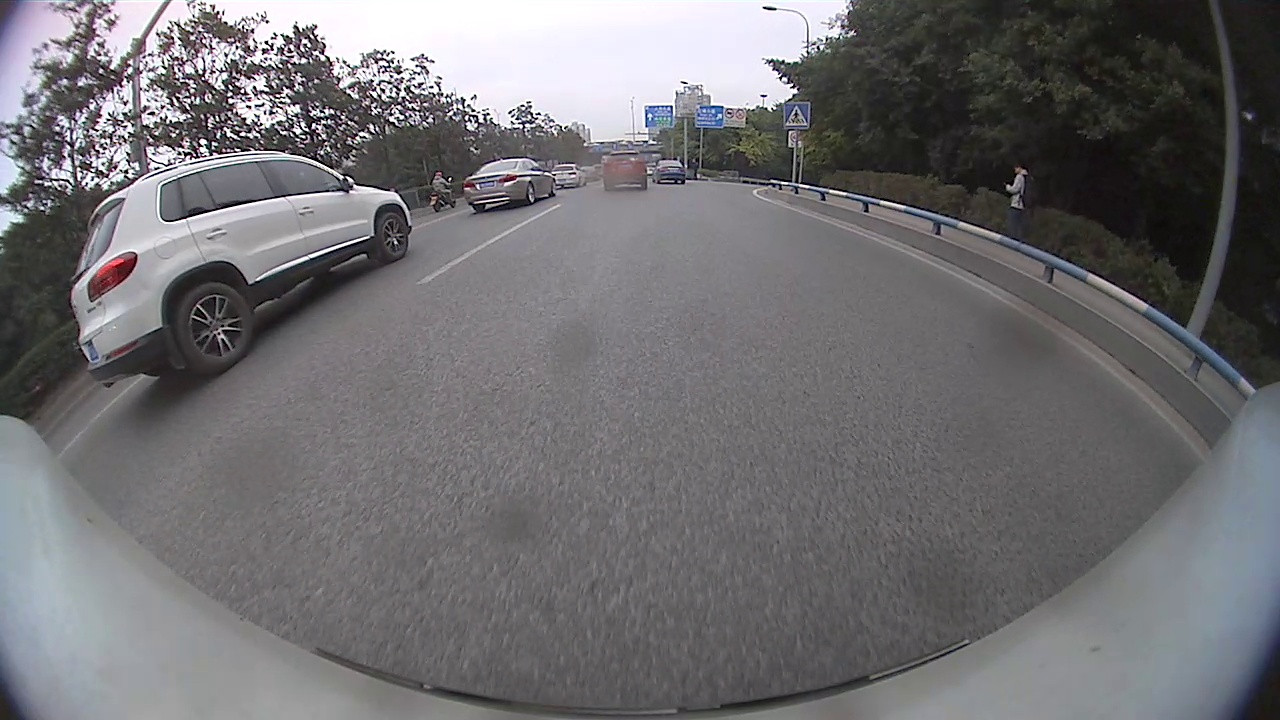car: (69, 149, 415, 389), (461, 156, 559, 214), (600, 149, 649, 192)
front: (375, 212, 412, 262)
person: (1012, 159, 1032, 241)
rear: (173, 281, 251, 373), (525, 185, 538, 204)
rider: (429, 170, 458, 214)
